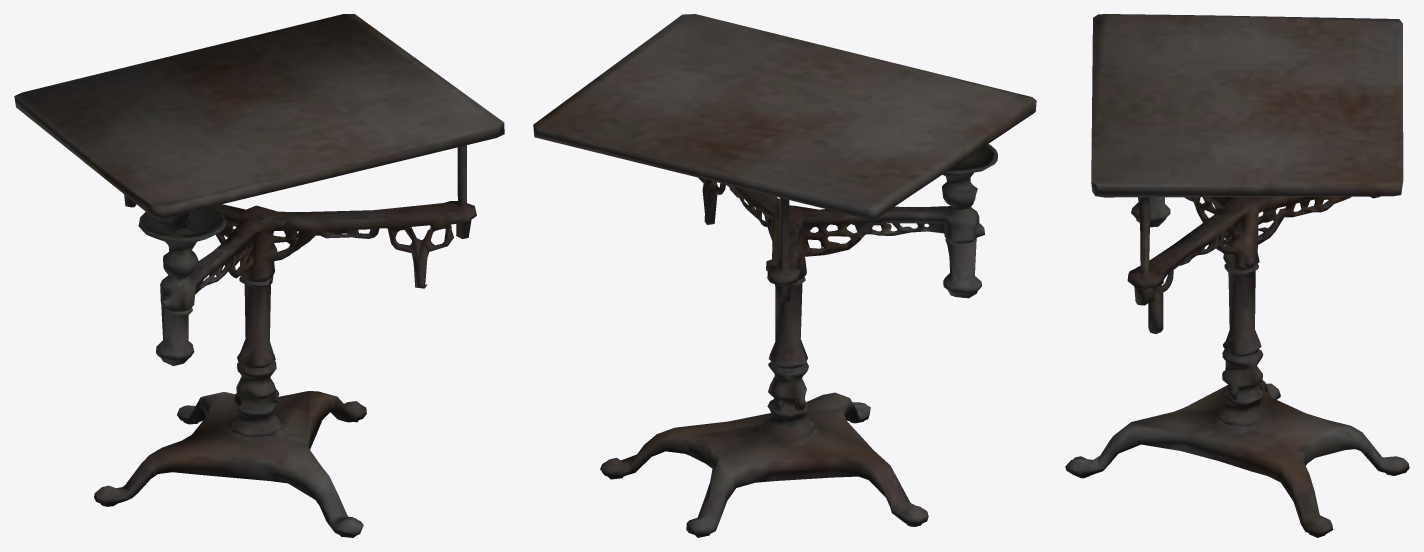
The model's file is ornate-iron-operating-table-v003.glb.
3 renders of one model, left to right at view 1: azimuth 30°, elevation 25°; view 2: azimuth 150°, elevation 25°; view 3: azimuth 270°, elevation 25°, orthographic.
Visible parts, largest first — view 1: ornate-iron-operating-table; view 2: ornate-iron-operating-table; view 3: ornate-iron-operating-table.
Boxes of the visible parts, left/top/right/bottom form: ornate-iron-operating-table: left=14, top=14, right=504, bottom=537; ornate-iron-operating-table: left=533, top=14, right=1036, bottom=537; ornate-iron-operating-table: left=1065, top=14, right=1409, bottom=537.
Bounding box in the file's own units: 0.843 × 0.8453 × 0.7133.
Materials: 1 (1 with a texture image).
